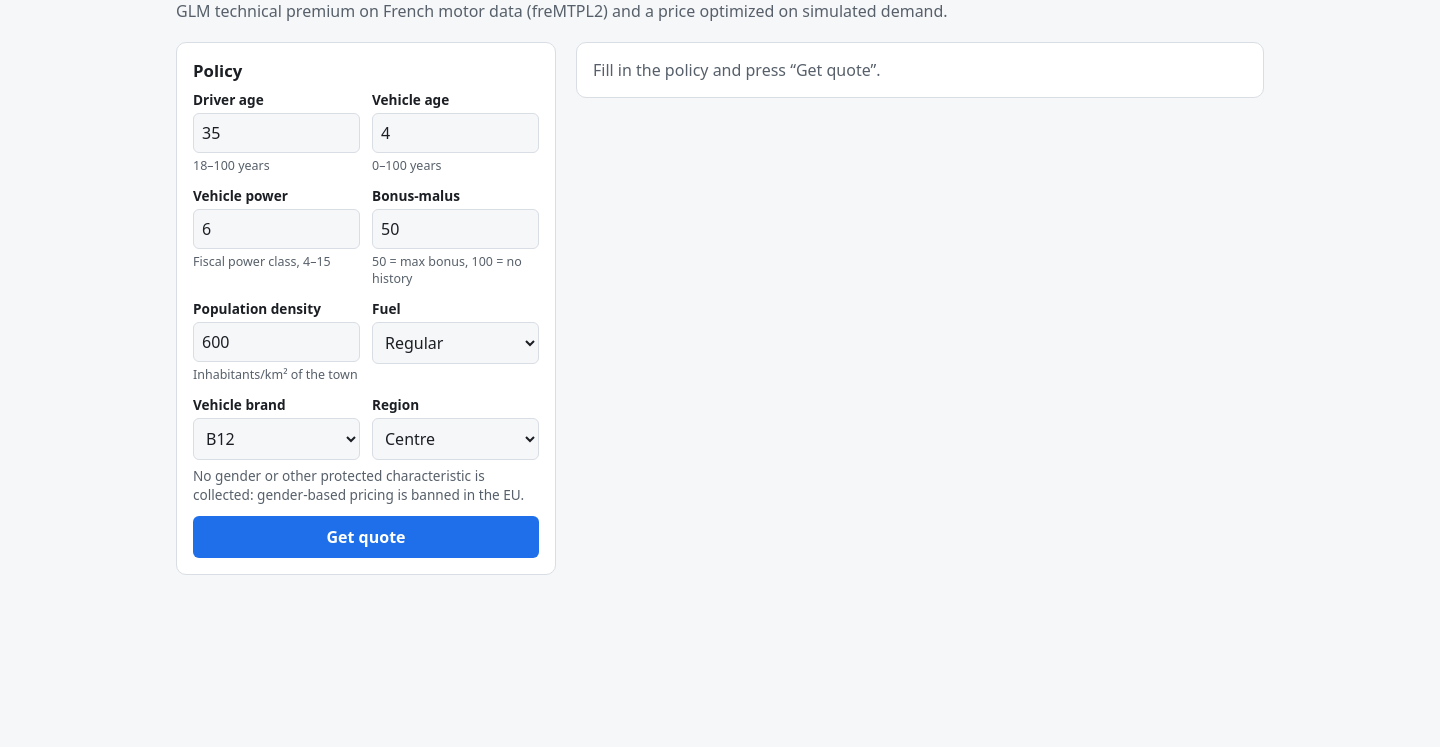
Scenario: App › posts the policy and renders premium, offer, breakdown, sensitivity and the simulated warning
Click the button "Get quote" at [366, 537], box [193,516,539,558]
(page scrolled)
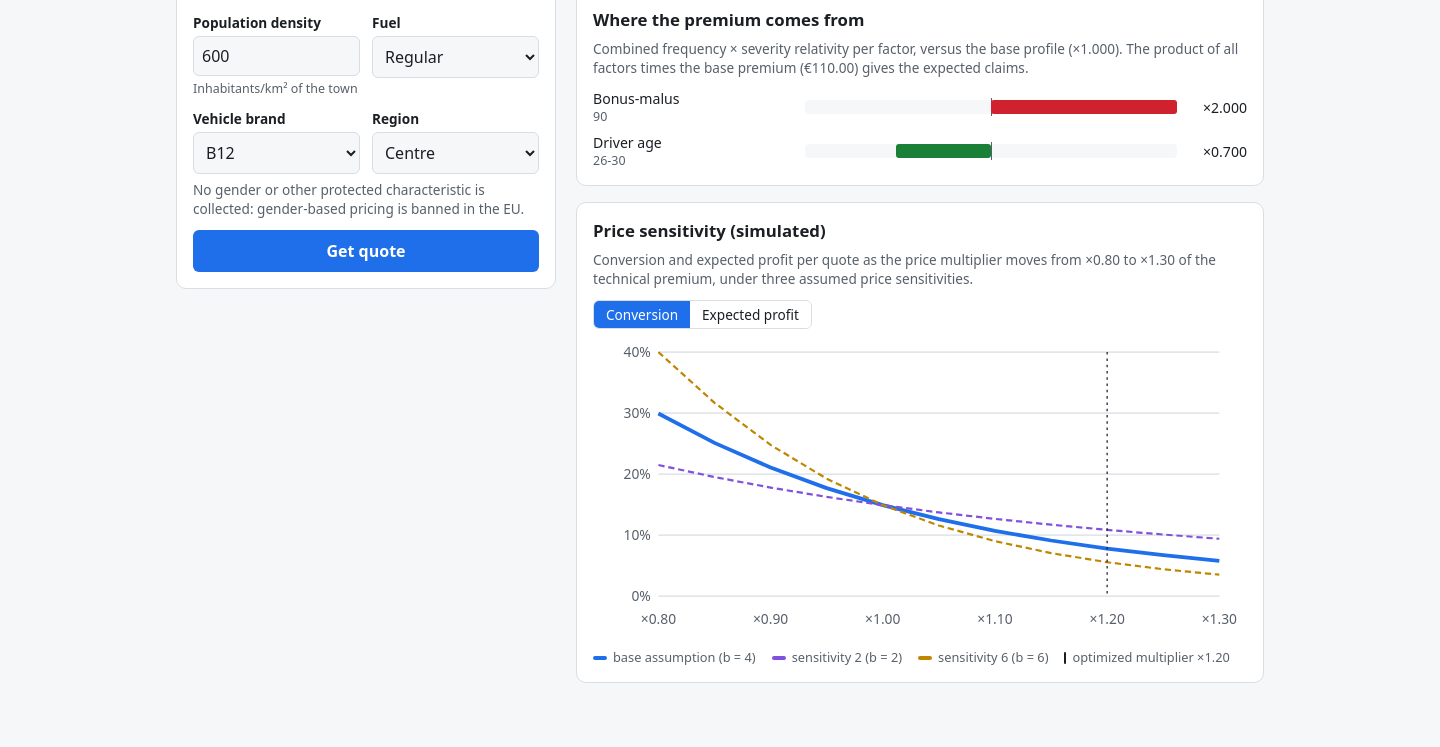
expect the picture named "versus price multiplier" is shown: met, box [593,337,1247,639]
